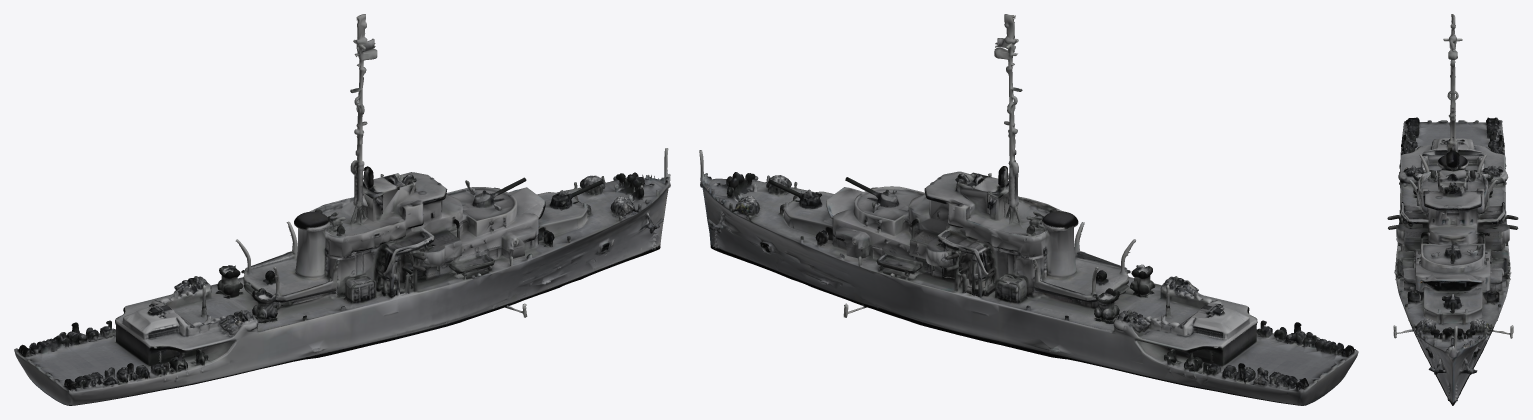
The model's file is tripo_convert_a0f3e7e5-4dc9-4da6-8e6a-f58a7fe2a979.fbx.
3 views of the same model, side by side, from view 1: azimuth 30°, elevation 25°; view 2: azimuth 150°, elevation 25°; view 3: azimuth 270°, elevation 25° (orthographic). The views are drawn at different scales.
Visible parts, largest first — view 1: tripo_node_a0f3e7e5; view 2: tripo_node_a0f3e7e5; view 3: tripo_node_a0f3e7e5.
Part boxes in pixels (left/top/right/bottom): tripo_node_a0f3e7e5: left=14, top=14, right=670, bottom=405; tripo_node_a0f3e7e5: left=699, top=14, right=1358, bottom=405; tripo_node_a0f3e7e5: left=1387, top=14, right=1518, bottom=405.
Size of the model in its own units: 97.74 by 20.4 by 45.98.
Materials: 1 (1 with a texture image).
